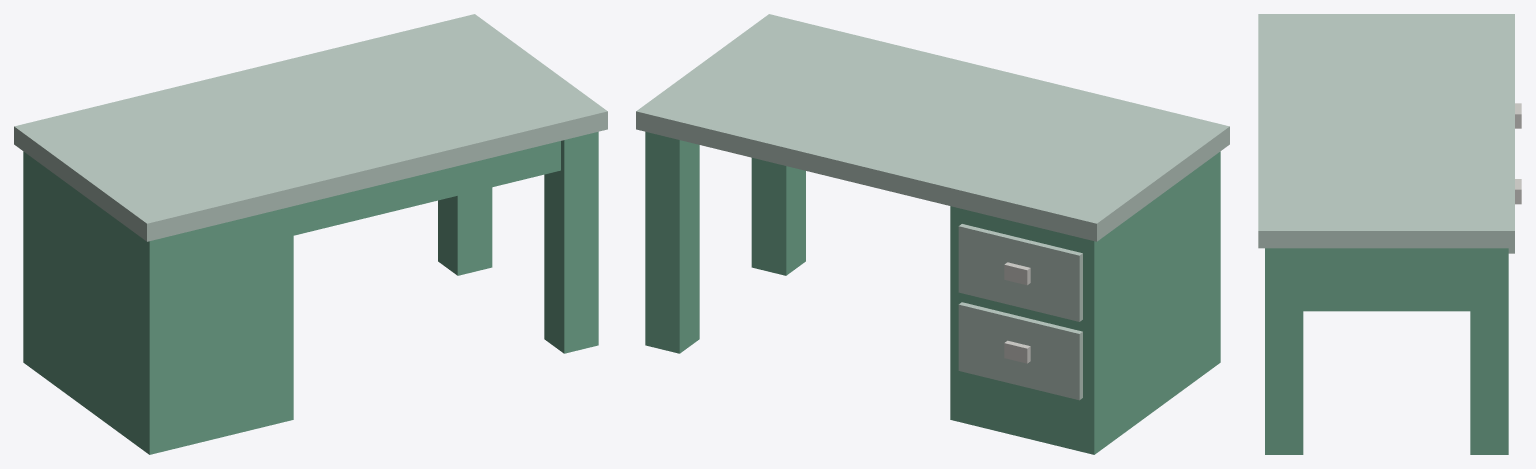
File: ncb-desk-mint.glb
3 views of the same model, side by side, from view 1: azimuth 30°, elevation 25°; view 2: azimuth 150°, elevation 25°; view 3: azimuth 270°, elevation 25° (orthographic). The views are drawn at different scales.
Visible parts, largest first — view 1: box-prop; view 2: box-prop; view 3: box-prop.
Boxes of the visible parts, bbox=[...] form: box-prop: bbox=[14, 14, 607, 454]; box-prop: bbox=[636, 14, 1229, 454]; box-prop: bbox=[1258, 14, 1521, 454].
Bounding box in the file's own units: 1.6 × 0.78 × 0.82.
